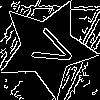V: (22, 23, 78, 73)
